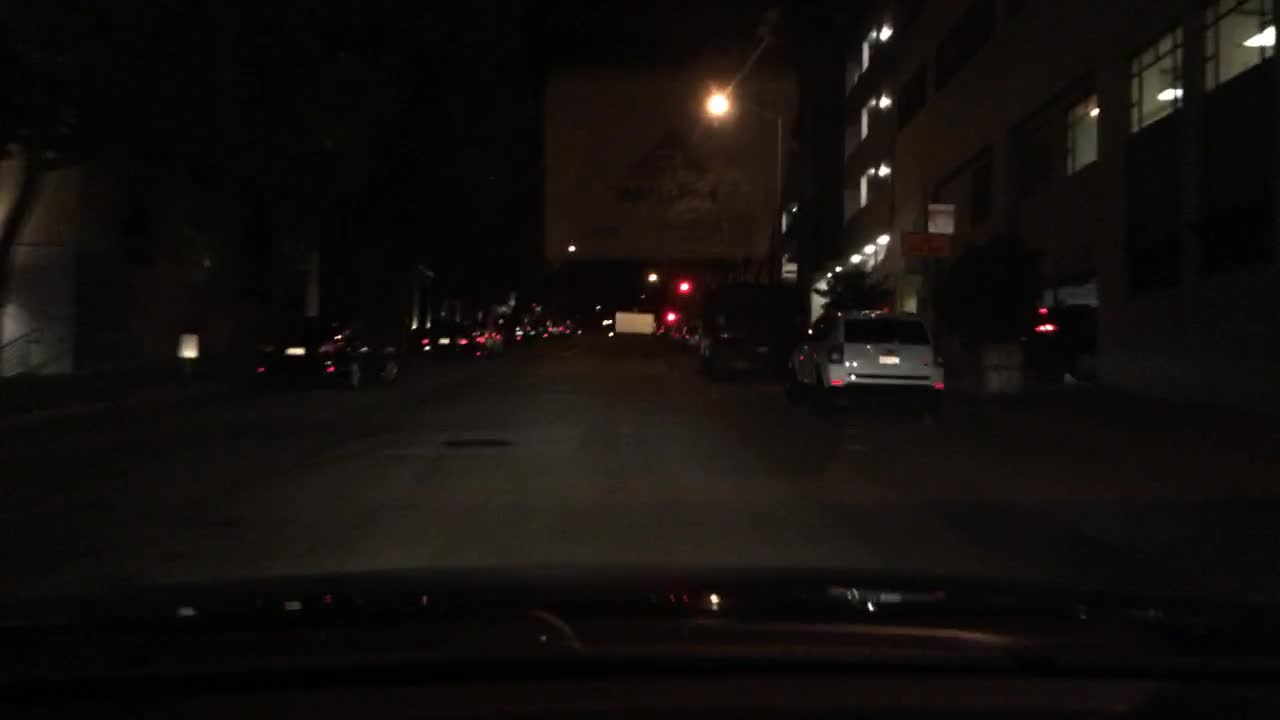car: (779, 304, 948, 412), (249, 312, 401, 395), (693, 327, 774, 381), (415, 324, 476, 358), (491, 314, 528, 344), (469, 320, 503, 351), (683, 317, 710, 346), (509, 319, 545, 339), (543, 315, 575, 336), (666, 322, 685, 342), (653, 327, 671, 341)
traffic light: (661, 307, 678, 324), (678, 272, 690, 293)
traffic sign: (897, 228, 950, 255), (926, 197, 953, 226)
